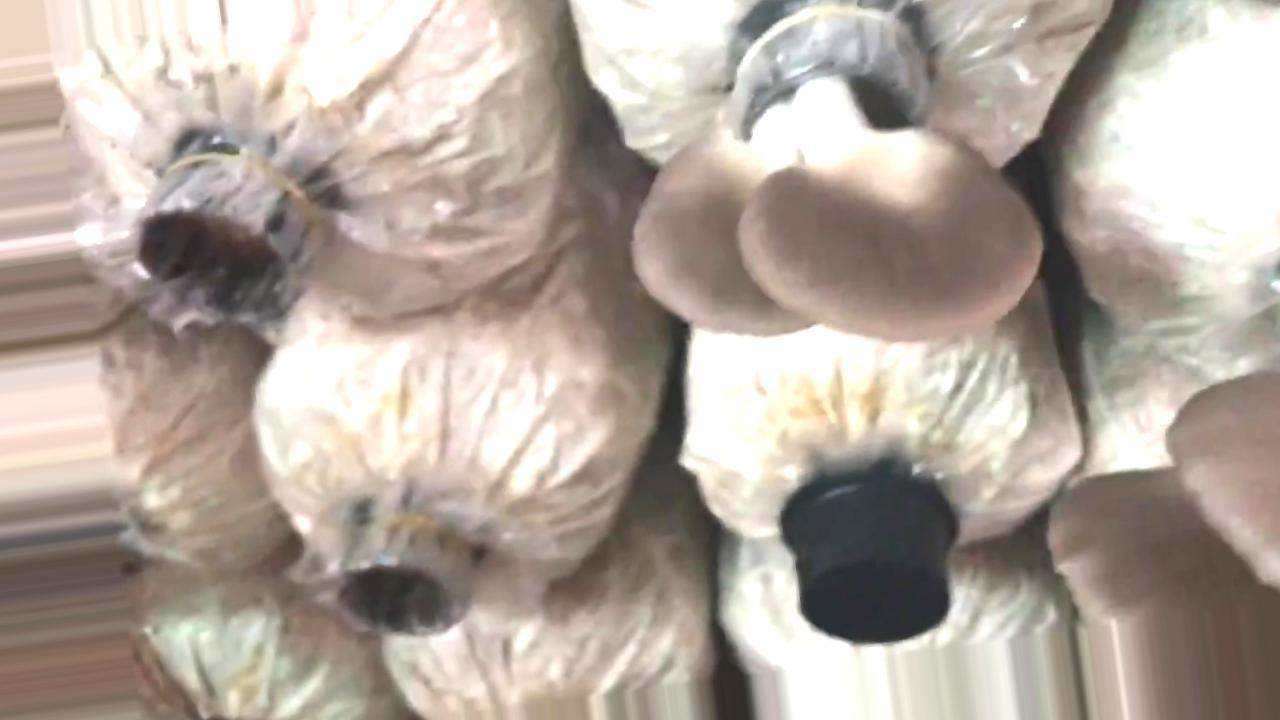nam: (642, 6, 1034, 341)
